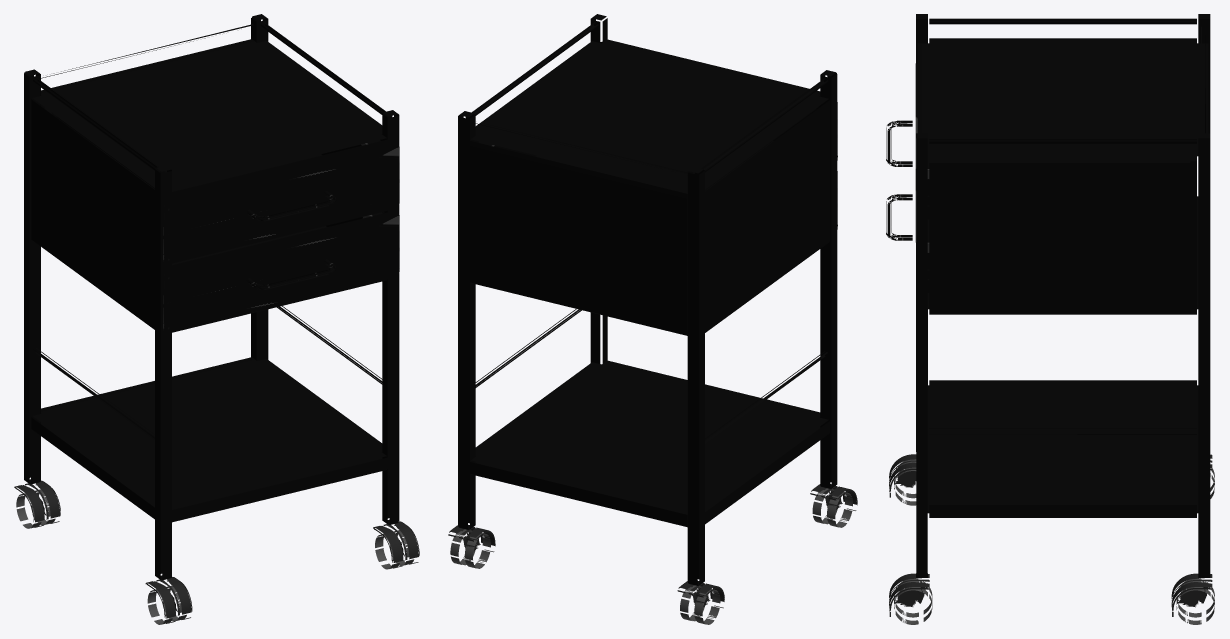
File: bk_bedside.glb
3 views of the same model, side by side, from view 1: azimuth 30°, elevation 25°; view 2: azimuth 150°, elevation 25°; view 3: azimuth 270°, elevation 25° (orthographic). The views are drawn at different scales.
Parts seen in each view (by area): view 1: Cabinet, Draw, Draw.001, Swivel.003, Swivel.001, Swivel.002; view 2: Cabinet, Wheel.001, Wheel.004, Wheel.002, Draw; view 3: Cabinet, Draw, Swivel.004, Swivel.003, Draw.001, Swivel.001, Wheel.004, Wheel.003.
Part boxes in pixels (x1,y1,x2,y2): Cabinet: [24, 14, 399, 580]; Draw: [51, 113, 399, 264]; Draw.001: [162, 211, 399, 332]; Swivel.003: [373, 521, 419, 568]; Swivel.001: [145, 577, 192, 623]; Swivel.002: [14, 480, 60, 527]; Cabinet: [458, 14, 837, 585]; Wheel.001: [680, 585, 720, 624]; Wheel.004: [450, 529, 490, 568]; Wheel.002: [812, 488, 852, 527]; Draw: [489, 41, 837, 193]; Cabinet: [916, 14, 1210, 577]; Draw: [886, 62, 1187, 219]; Swivel.004: [1171, 573, 1212, 616]; Swivel.003: [889, 573, 929, 616]; Draw.001: [886, 169, 929, 293]; Swivel.001: [889, 454, 916, 497]; Wheel.004: [1176, 578, 1214, 624]; Wheel.003: [894, 578, 932, 624].
Size of the model in its own units: 0.5325 by 0.8986 by 0.556.
Materials: 11 (11 with a texture image).
